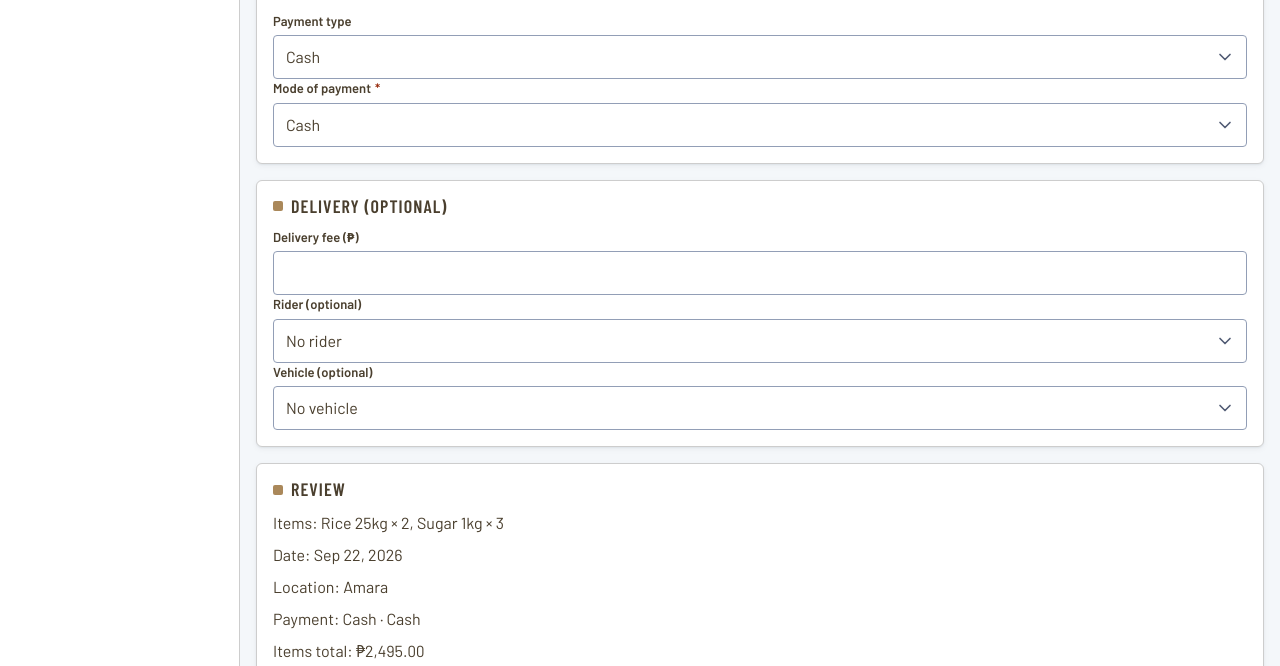
Test: SaleCartPage › records a sale with a rider and vehicle from the store lists
(page scrolled)
Select "Jojo Ramos" in the dropdown labelled "Rider (optional)" at (760, 341), box [273,319,1247,363]
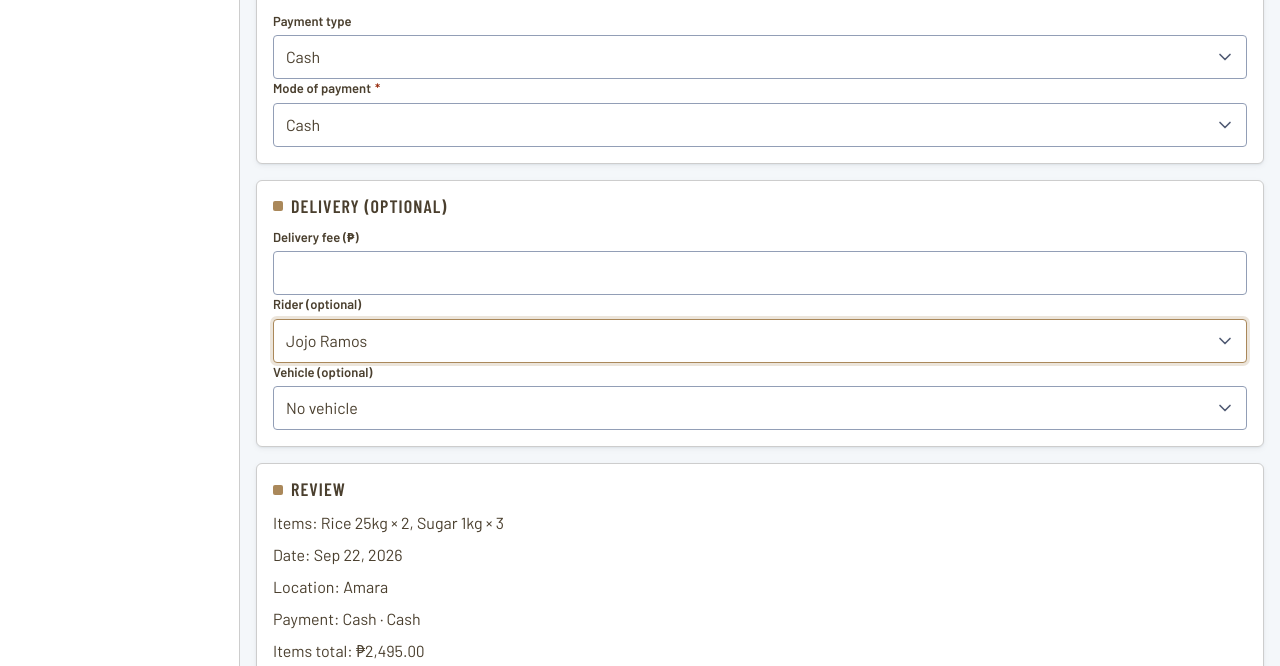
Select "Motorcycle" in the dropdown labelled "Vehicle (optional)" at (760, 408), box [273,386,1247,430]
(page scrolled)
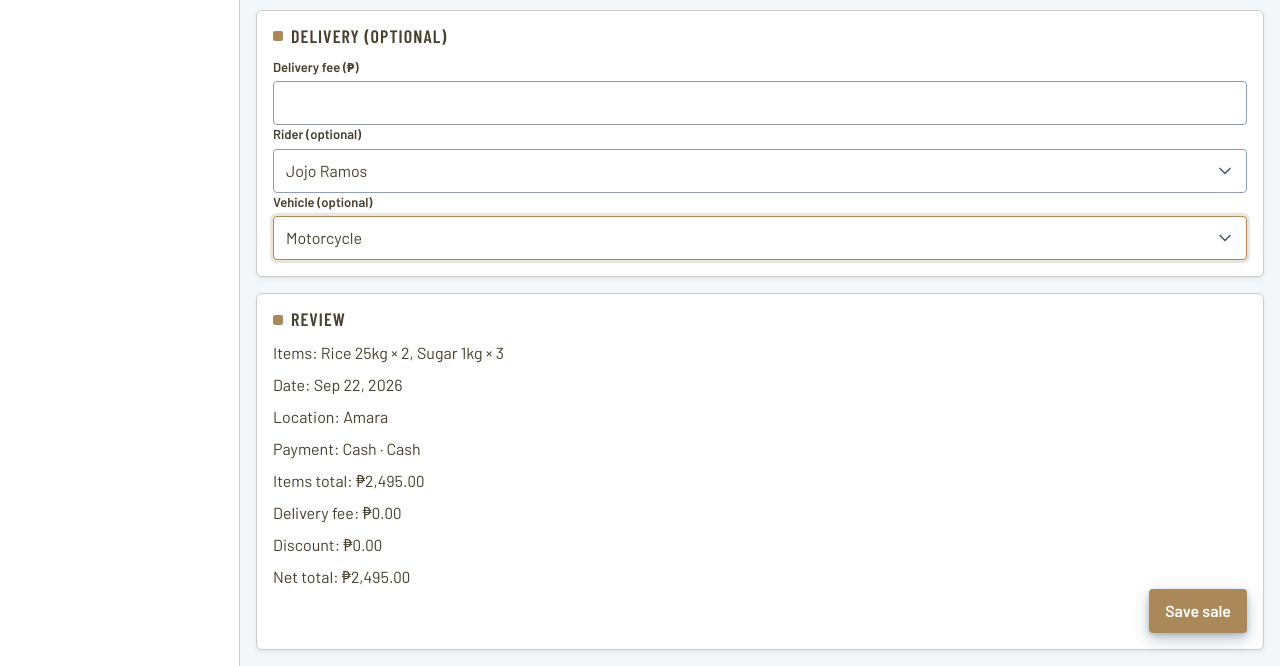
Click the button "Save sale".
click(1198, 611)  # box [1149,589,1247,633]
(page scrolled)
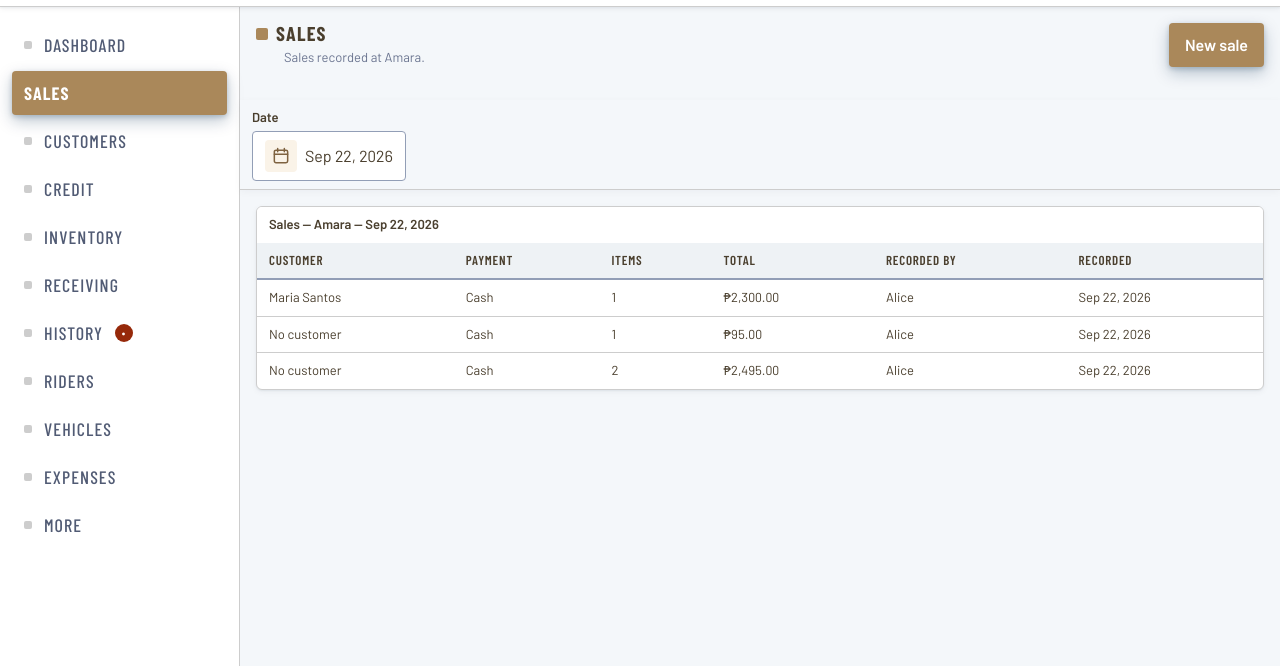
Expected: the heading "Sales" is shown, [276,23,327,44]
